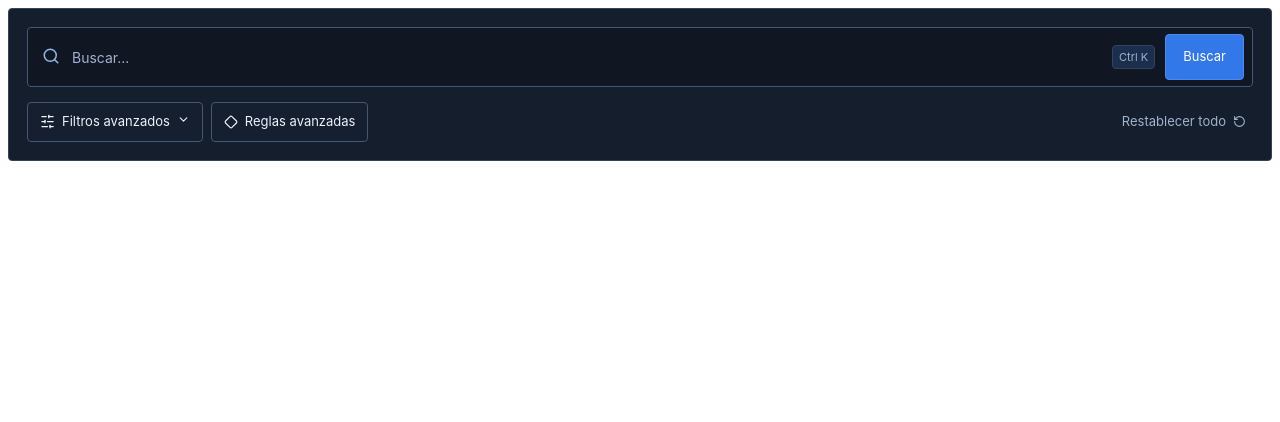
Test: Numeric range filter › adds an inclusive range and can exclude it from advanced rules
Later steps or results of the test are not shown.
Click the button "Filtros avanzados": [115, 122] box x1=27 y1=102 x2=203 y2=142
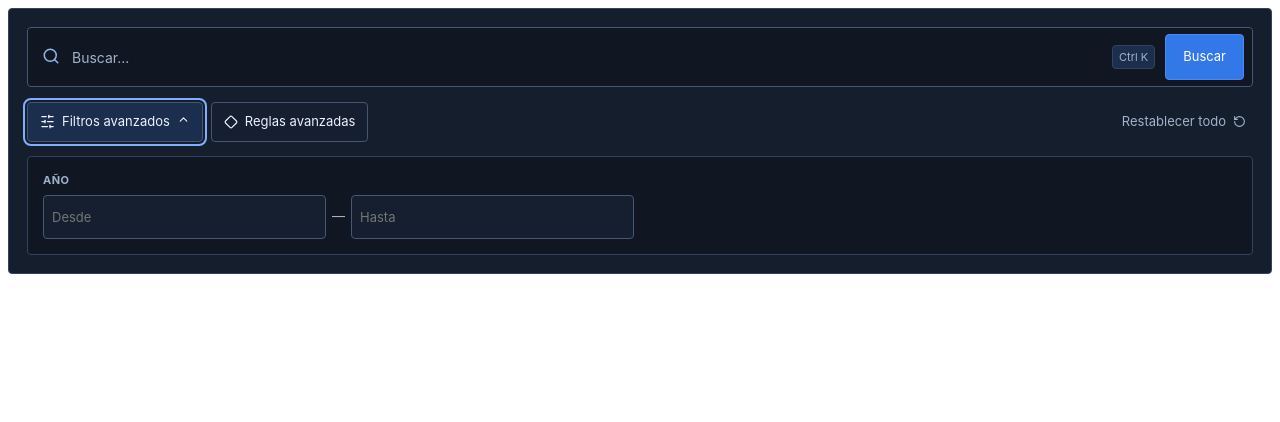
In the number field named "Año: desde": [184, 217] box x1=43 y1=195 x2=326 y2=239, type "2015"
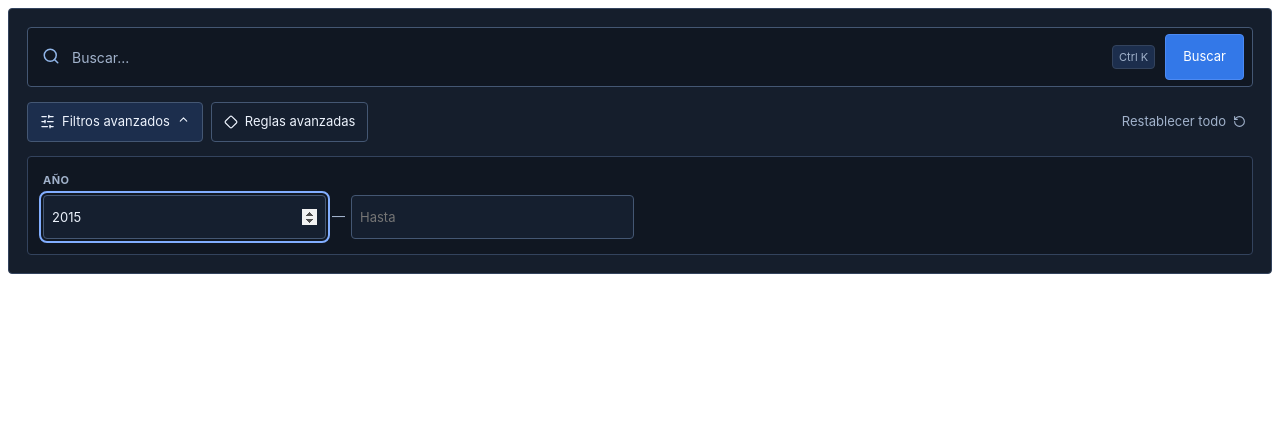
Press Tab
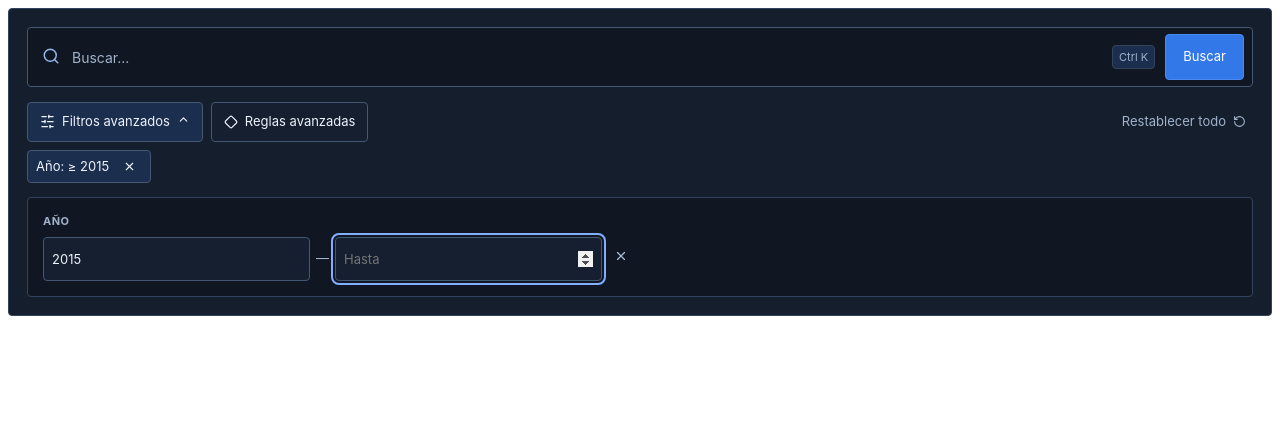
Click the button "Reglas avanzadas": [290, 122] box x1=211 y1=102 x2=368 y2=142
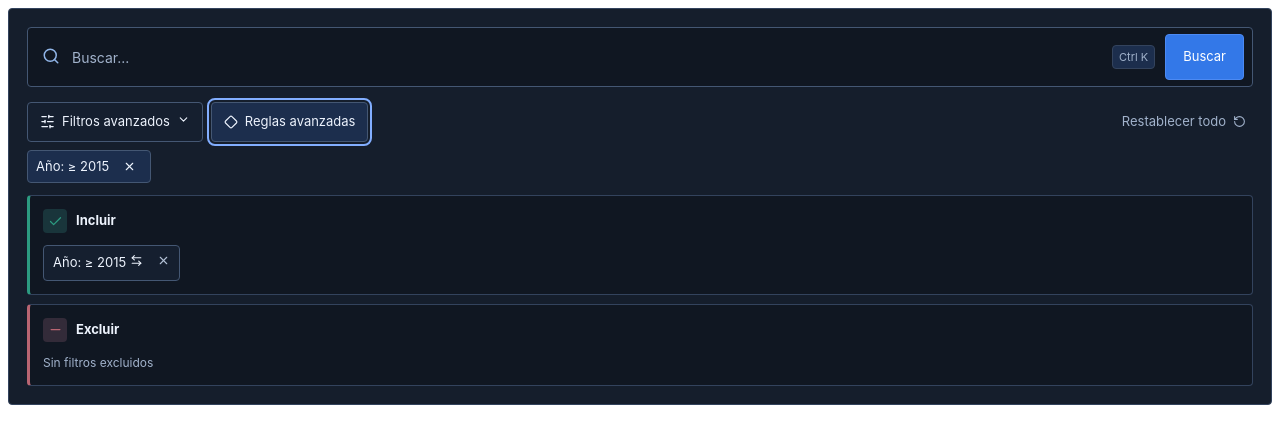
Expected: the number field labelled "Año: desde" is gone
